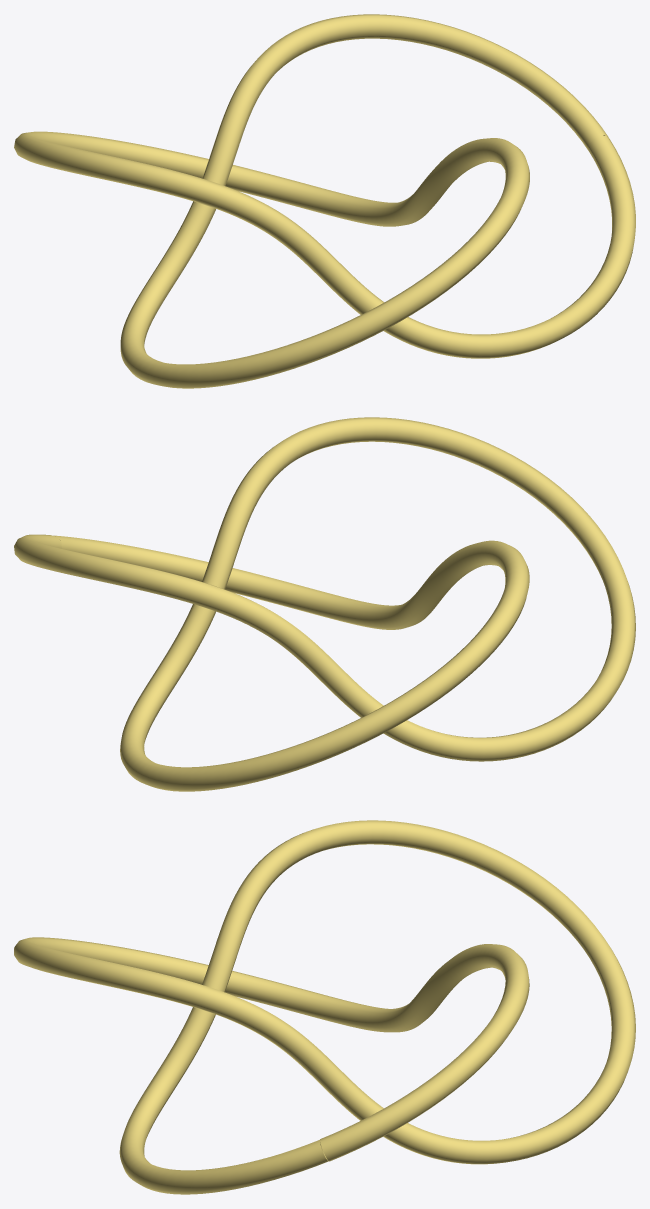
File: ex_torus_knot.glb
3 views of the same model, one above another, from view 1: azimuth 30°, elevation 25°; view 2: azimuth 150°, elevation 25°; view 3: azimuth 270°, elevation 25° (orthographic).
Visible parts, largest first — view 1: TorusKnot; view 2: TorusKnot; view 3: TorusKnot.
Part boxes in pixels (x1,y1,x2,y2): TorusKnot: [14, 14, 635, 388]; TorusKnot: [14, 417, 635, 791]; TorusKnot: [14, 820, 635, 1194].
Size of the model in its own units: 2.67 by 0.9495 by 2.8.
